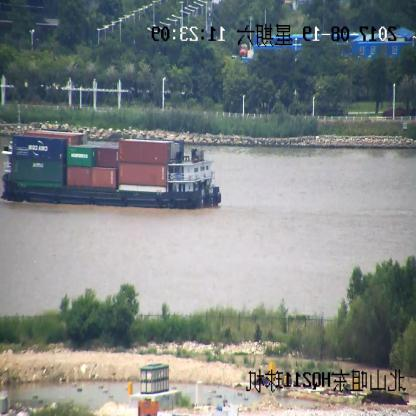Container Ship: (2, 107, 220, 208)
